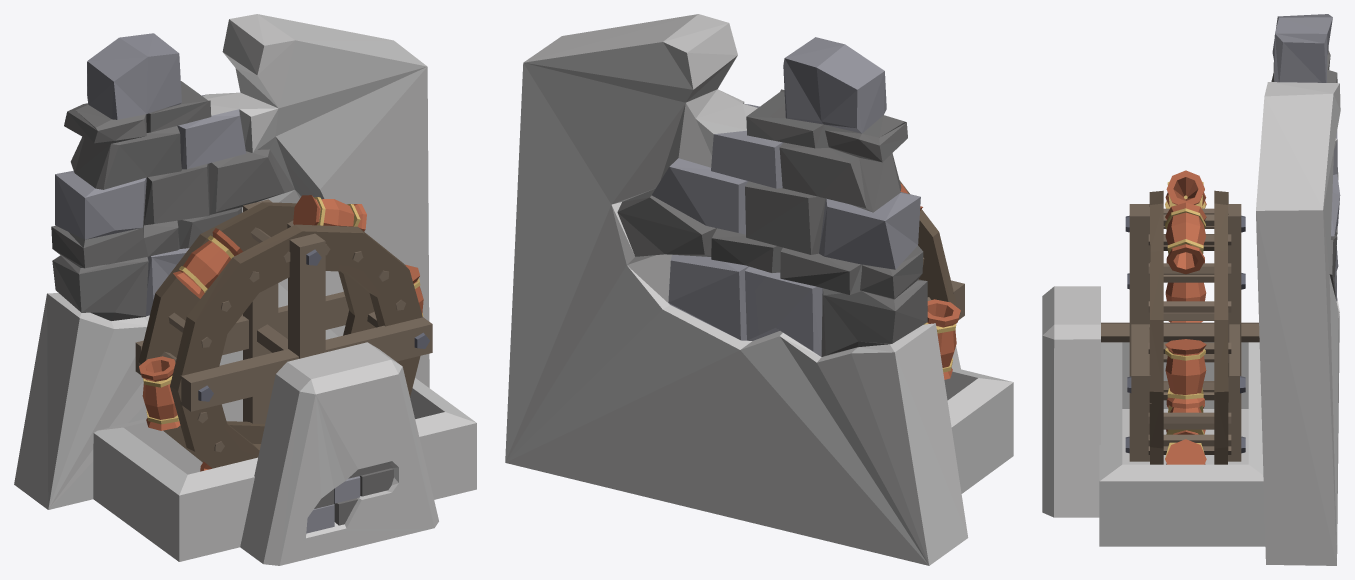
Rendered from _waterwheel.fbx.
The picture shows the model from 3 angles, left to right: view 1: azimuth 30°, elevation 25°; view 2: azimuth 150°, elevation 25°; view 3: azimuth 270°, elevation 25°; orthographic projection. The views are drawn at different scales.
Visible parts, largest first — view 1: waterwheel; view 2: waterwheel; view 3: waterwheel.
Part boxes in pixels (x1,y1,x2,y2): waterwheel: [14, 14, 476, 565]; waterwheel: [505, 14, 1013, 565]; waterwheel: [1042, 14, 1340, 565].
Size of the model in its own units: 377 by 399 by 259.
